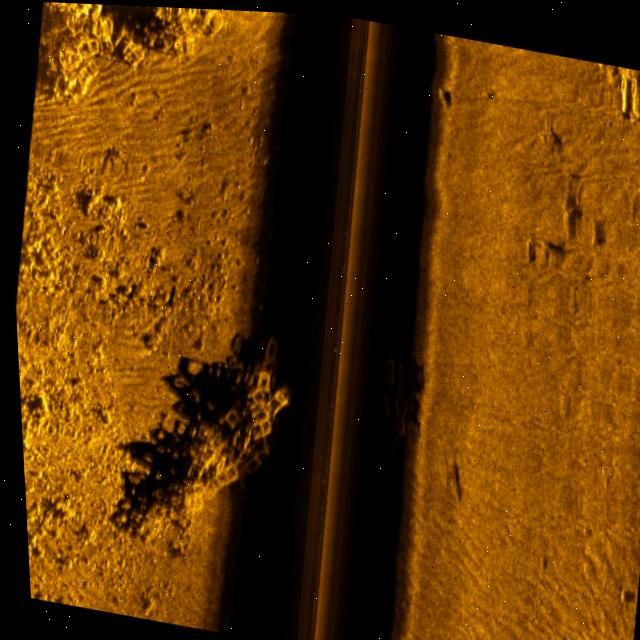artificial reef: (99, 312, 296, 562), (29, 1, 237, 121), (363, 332, 434, 452)
